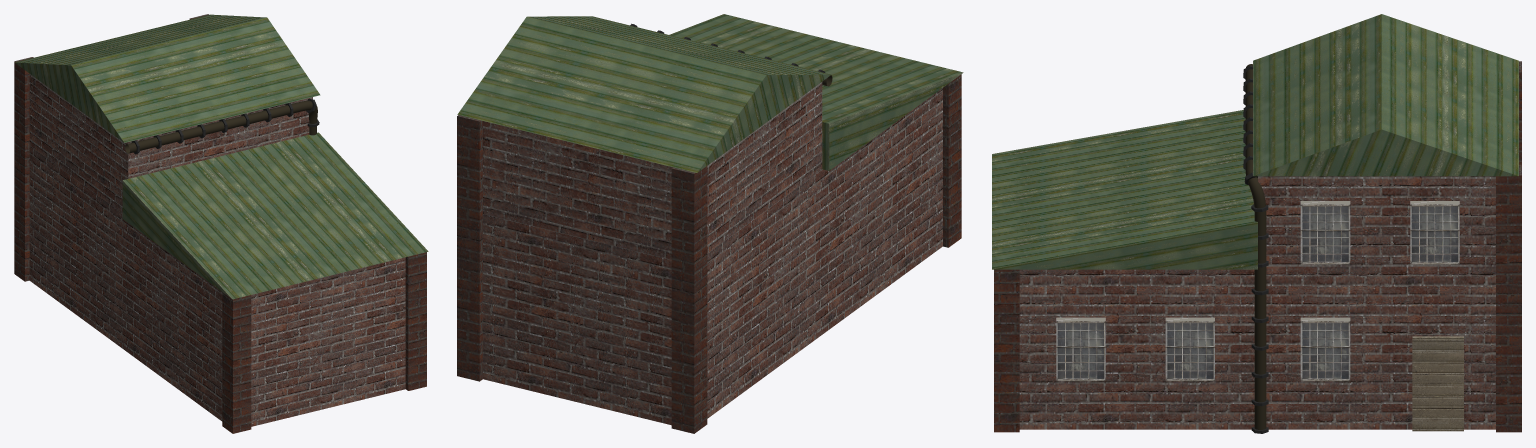
File: Building 2.fbx
3 views of the same model, side by side, from view 1: azimuth 30°, elevation 25°; view 2: azimuth 150°, elevation 25°; view 3: azimuth 270°, elevation 25° (orthographic). The views are drawn at different scales.
Visible parts, largest first — view 1: Cube, Plane, Plane.001, Cube.001, BezierCurve, Cylinder; view 2: Cube, Plane.001, Cube.001, Plane; view 3: Cube, Plane.001, Plane, Cube.001, Cube.003, BezierCurve, Cube.009, Cube.007, Cube.002, Cube.006, Cube.008, Cylinder.
Boxes of the visible parts, x1,y1,x2,y2 form: Cube: (29,74,405,426); Plane: (122,132,428,299); Plane.001: (14,14,320,142); Cube.001: (14,14,426,433); BezierCurve: (125,100,317,153); Cylinder: (131,99,319,154); Cube: (483,82,942,425); Plane.001: (457,16,831,172); Cube.001: (457,74,961,433); Plane: (669,14,963,170); Cube: (1019,176,1495,429); Plane.001: (1253,14,1518,176); Plane: (992,110,1257,269); Cube.001: (994,61,1521,432); Cube.003: (1412,336,1463,431); BezierCurve: (1245,64,1266,429); Cube.009: (1300,317,1350,381); Cube.007: (1300,201,1350,264); Cube.002: (1056,317,1105,381); Cube.006: (1165,317,1214,381); Cube.008: (1410,201,1459,264); Cylinder: (1243,65,1268,433).
Bounding box in the file's own units: 1066 × 1303 × 2057.
